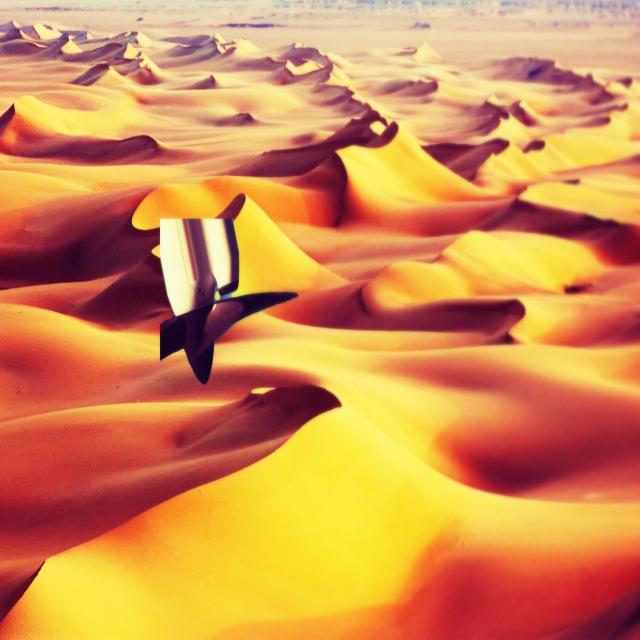airplane: (159, 220, 299, 384)
